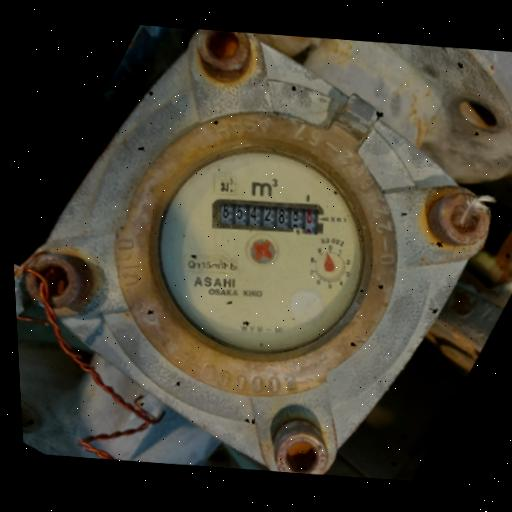2: (262, 205, 275, 226)
4: (248, 204, 260, 225)
5: (234, 204, 247, 225)
8: (219, 203, 234, 224), (304, 208, 316, 234), (276, 205, 289, 227), (290, 207, 303, 228)
border_water_meter_number: (210, 194, 327, 238)
